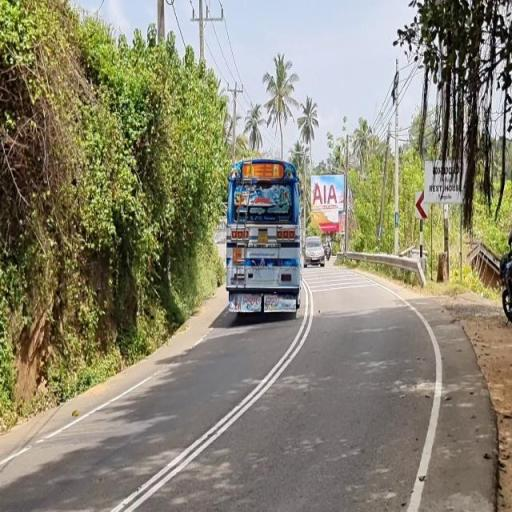double_white_line: (108, 278, 314, 511)
